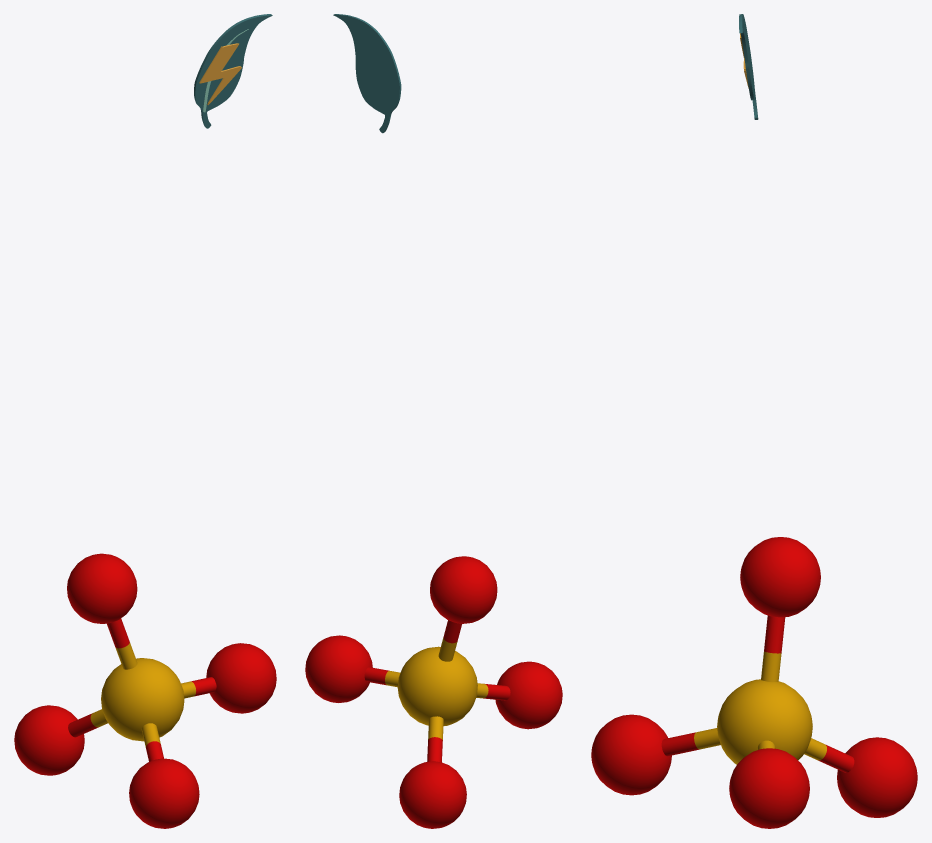
The model's file is anion.glb.
The picture shows the model from 3 angles, left to right: view 1: azimuth 30°, elevation 25°; view 2: azimuth 150°, elevation 25°; view 3: azimuth 270°, elevation 25°; orthographic projection. The views are drawn at different scales.
Visible parts, largest first — view 1: po4_anion, path182, path186; view 2: po4_anion, path182; view 3: po4_anion, path182.
Boxes of the visible parts, left/top/right/bottom form: po4_anion: left=14, top=553, right=276, bottom=828; path182: left=194, top=14, right=272, bottom=128; path186: left=199, top=43, right=241, bottom=104; po4_anion: left=305, top=556, right=562, bottom=828; path182: left=333, top=14, right=401, bottom=133; po4_anion: left=591, top=537, right=917, bottom=828; path182: left=739, top=14, right=758, bottom=119.
Size of the model in its own units: 1.66 by 5.9 by 1.99.
